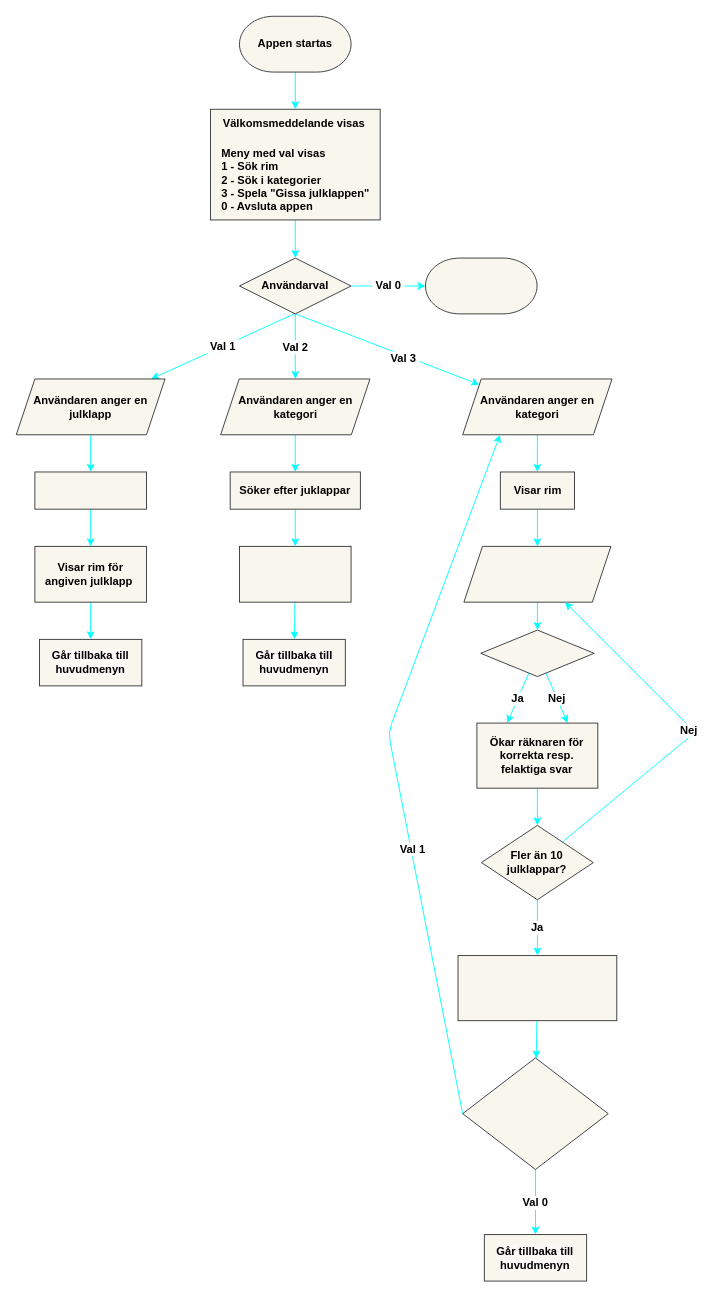
Some shapes in this 719 by 1297 pixel diagram are drawn without their labels. Each missing label, with the centre of its shape:
Användaren gissar julklappen: [537,573]
Användarval 1 - Spela igen 0 - Avsluta: [535,1113]
Appen avslutas: [481,285]
Rätt svar?: [537,653]
Söker efter rim: [90,490]
Visar juklappar i angiven kategori: [295,573]
Visar sammanställning av korrekta och felaktiga svar: [537,988]
